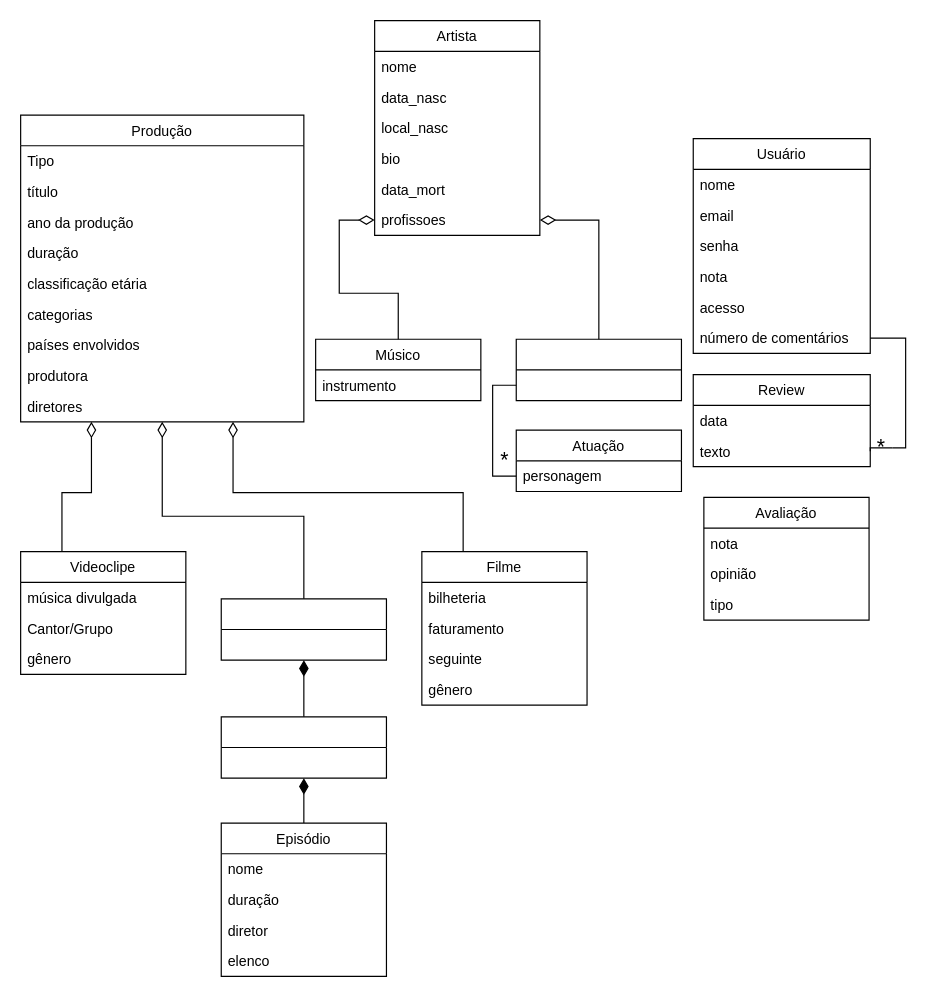
This 927x1001 diagram has some shape labels left out. Each missing label, with the centre of its shape:
"Ator/Atriz" belongs at (x=598, y=369).
"Série" belongs at (x=303, y=629).
"Temporada" belongs at (x=303, y=747).
